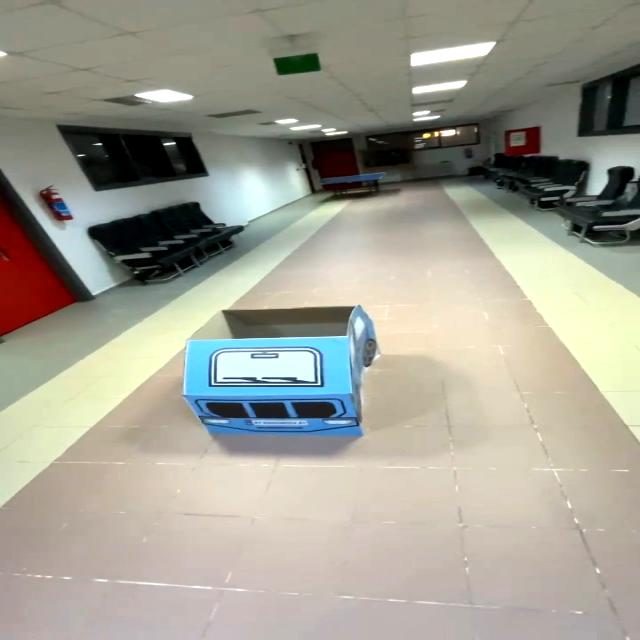blue_car: (141, 289, 401, 448)
